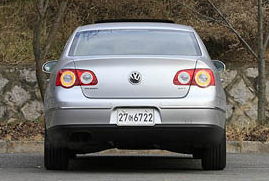plate: (117, 108, 154, 125)
